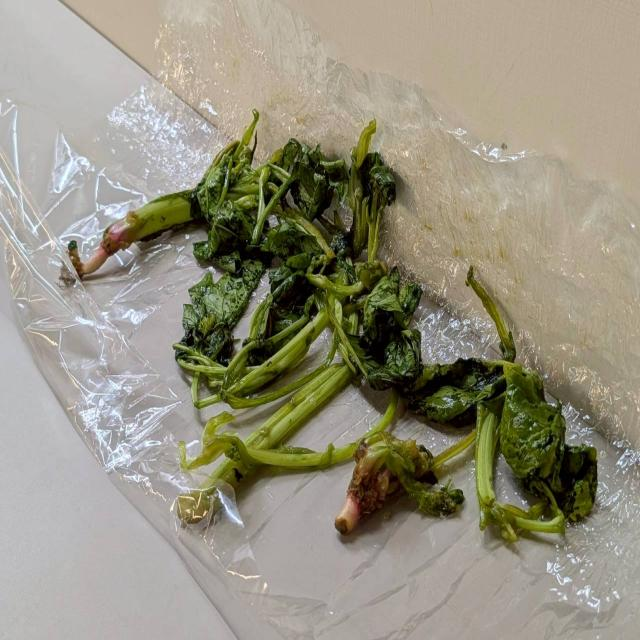rotten spinach: (62, 88, 619, 598), (399, 212, 593, 577), (183, 162, 357, 541), (56, 100, 335, 310), (306, 261, 474, 560)
